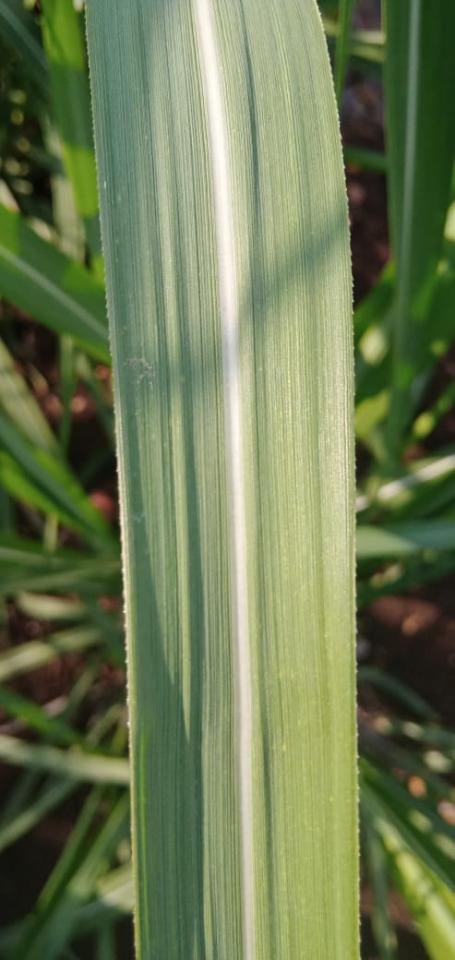Healthy: (88, 0, 357, 959)
